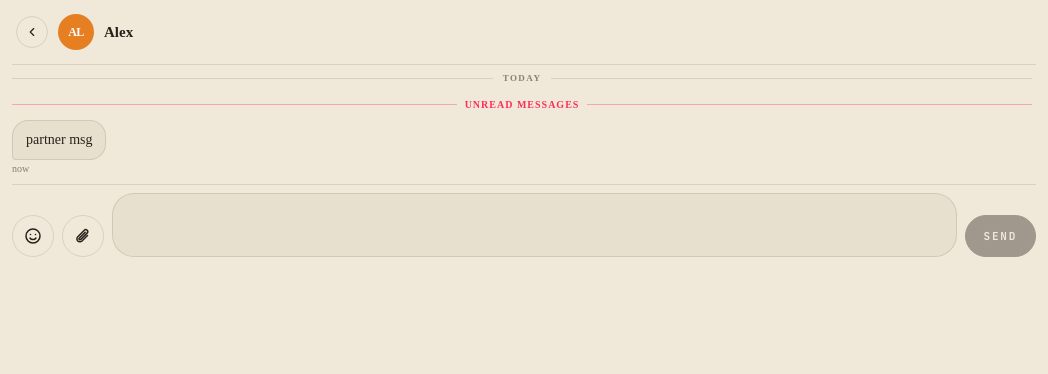
Test: Messages — thread view › left-click on partner bubble shows Delete for me but NOT Unsend
Click the text "partner msg": (59, 140) [12,120,106,160]
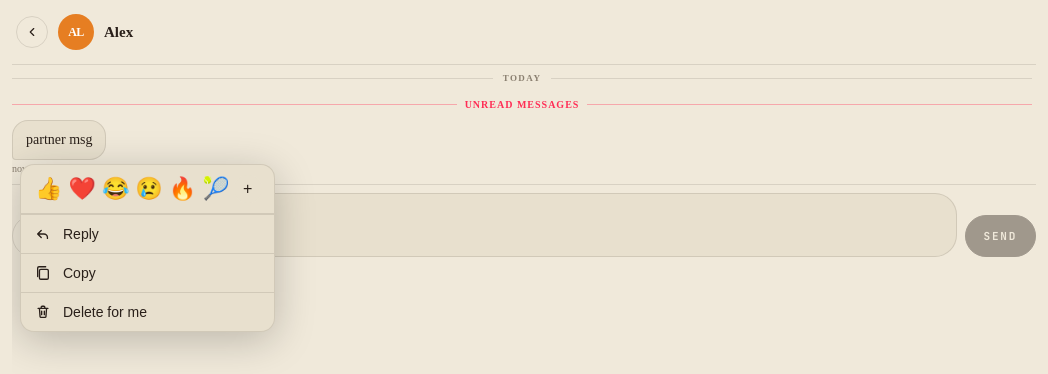
Now the text "Reply" is shown, box [63,226,99,242]
Now the text "Copy" is shown, box [63,265,96,281]
Now the text "Delete for me" is shown, box [63,304,147,320]
